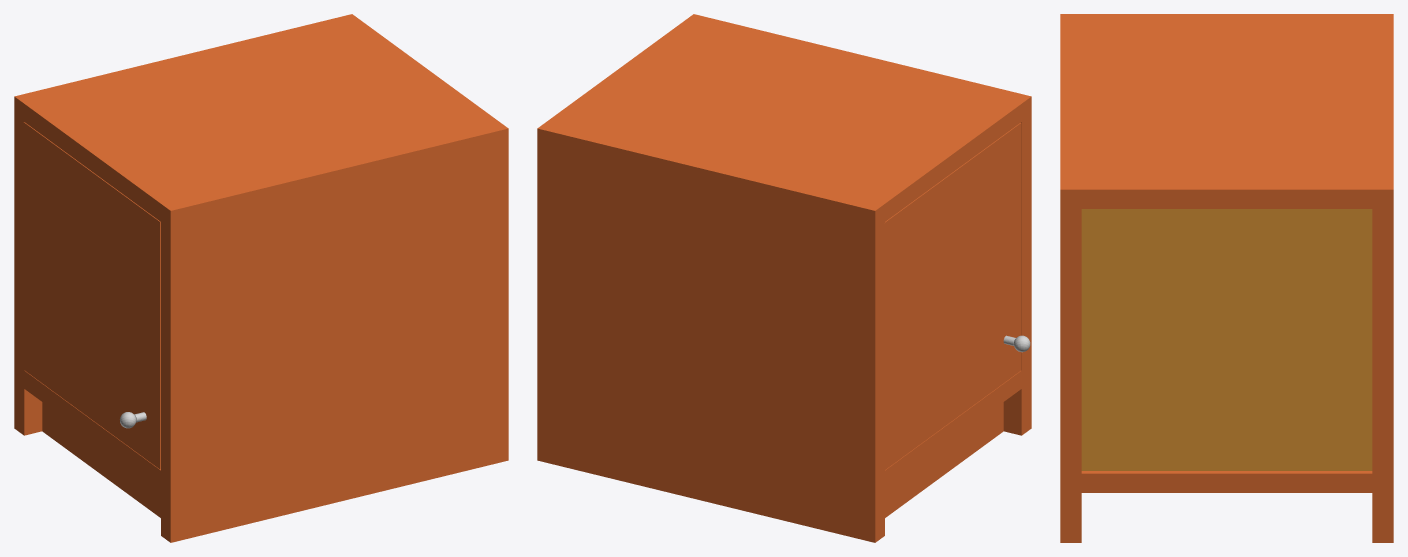
File: Wardrobe_Low_L_01.fbx
3 renders of one model, left to right at view 1: azimuth 30°, elevation 25°; view 2: azimuth 150°, elevation 25°; view 3: azimuth 270°, elevation 25°, orthographic. The views are drawn at different scales.
Visible parts, largest first — view 1: Cube, Cube.001; view 2: Cube, Cube.001; view 3: Cube, Cube.002.
Part boxes in pixels (bbox=[...]): Cube: bbox=[14, 14, 508, 542]; Cube.001: bbox=[23, 122, 160, 469]; Cube: bbox=[537, 14, 1031, 542]; Cube.001: bbox=[884, 123, 1021, 470]; Cube: bbox=[1060, 14, 1393, 542]; Cube.002: bbox=[1081, 209, 1372, 470].
Size of the model in its own units: 107 by 93.93 by 80.21.
